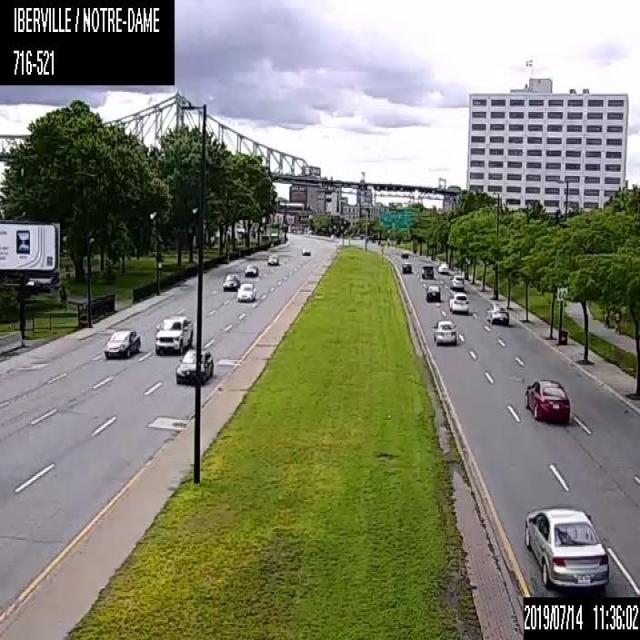vehicle: (522, 506, 609, 590), (523, 377, 570, 423), (154, 312, 192, 353), (175, 347, 213, 384), (102, 328, 140, 357), (432, 317, 457, 344), (485, 301, 508, 323), (448, 291, 469, 313), (237, 282, 256, 301), (221, 273, 240, 290), (425, 283, 440, 300), (449, 274, 464, 289), (419, 263, 433, 277), (436, 261, 448, 275), (244, 264, 258, 276), (266, 253, 278, 266), (400, 263, 412, 273), (399, 249, 409, 259), (301, 245, 310, 255)
